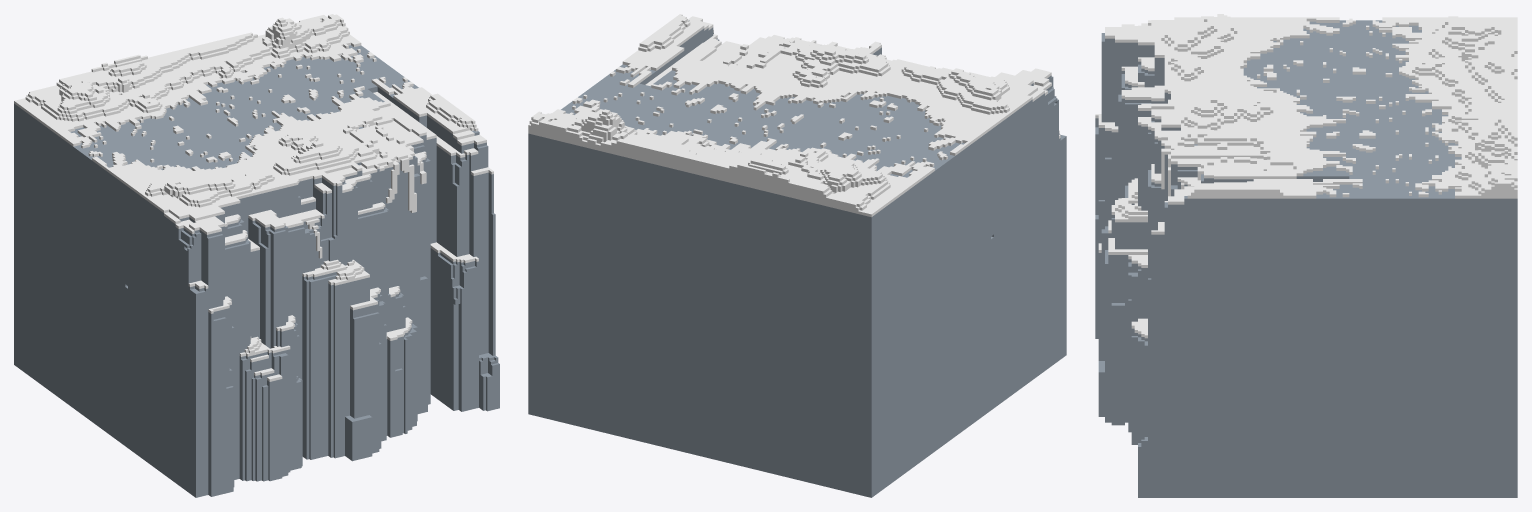
File: factory4.1-28.obj
3 renders of one model, left to right at view 1: azimuth 30°, elevation 25°; view 2: azimuth 150°, elevation 25°; view 3: azimuth 270°, elevation 25°, orthographic. The views are drawn at different scales.
Bounding box in the file's own units: 25.6 × 22.2 × 25.6.
Materials: 1 (1 with a texture image).
